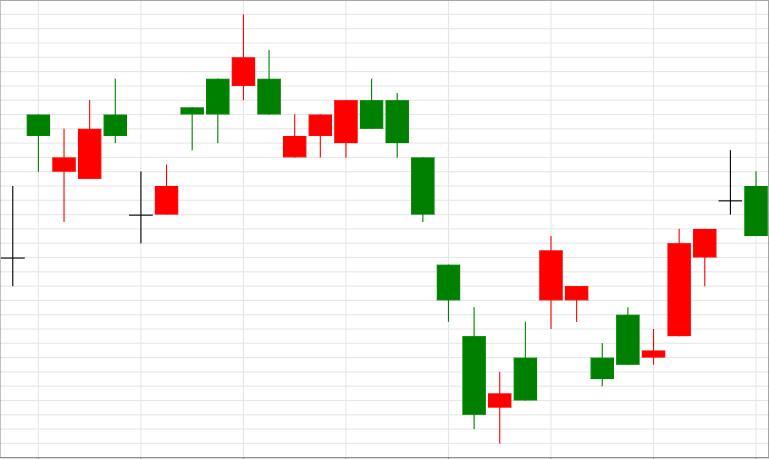shooting_star_fall: (129, 14, 255, 244)
